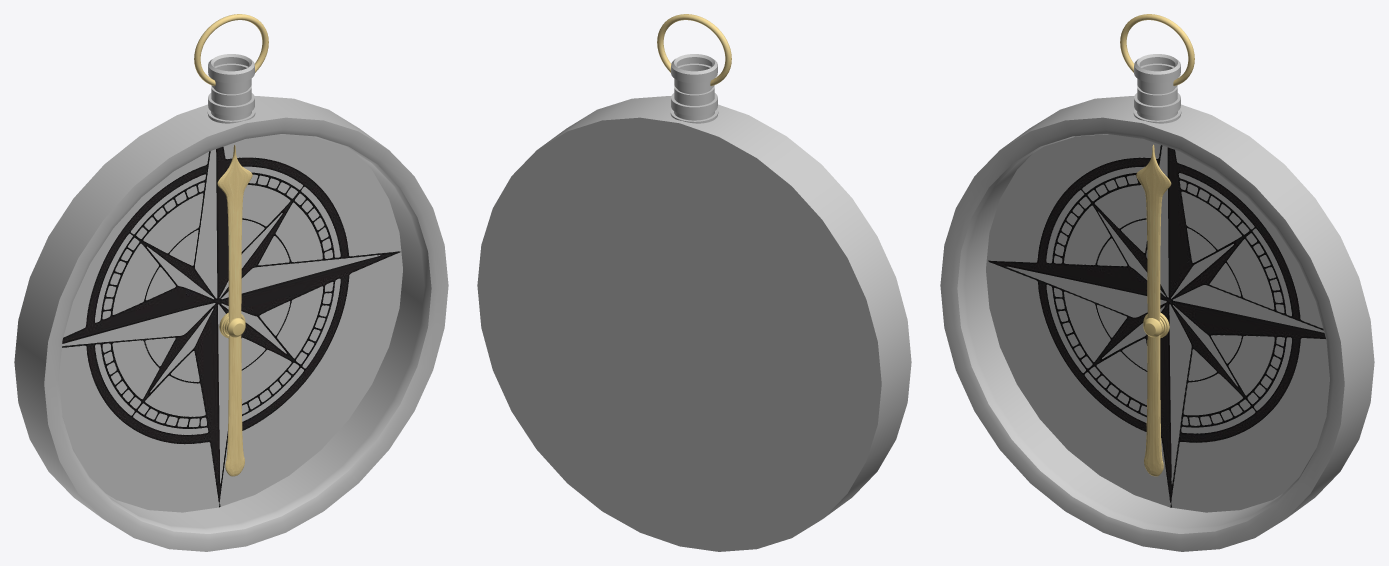
The model's file is PZ_COMPASS_.fbx.
3 views of the same model, side by side, from view 1: azimuth 30°, elevation 25°; view 2: azimuth 150°, elevation 25°; view 3: azimuth 330°, elevation 25° (orthographic).
Visible parts, largest first — view 1: PZ_COMPASS; view 2: PZ_COMPASS; view 3: PZ_COMPASS.
Part boxes in pixels (x1=…): PZ_COMPASS: x1=14, y1=14, x2=448, y2=551; PZ_COMPASS: x1=477, y1=14, x2=911, y2=551; PZ_COMPASS: x1=940, y1=14, x2=1374, y2=551.
Size of the model in its own units: 18.53 by 22.78 by 2.37.
